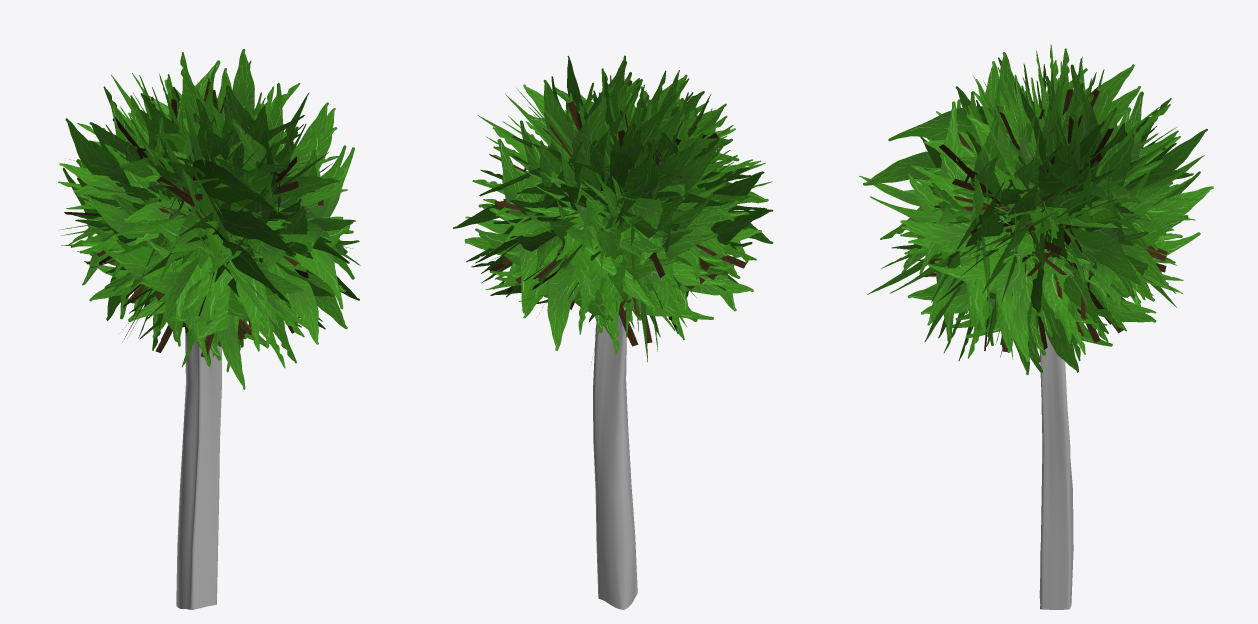
File: Tree.fbx
The picture shows the model from 3 angles, left to right: view 1: azimuth 30°, elevation 25°; view 2: azimuth 150°, elevation 25°; view 3: azimuth 270°, elevation 25°; orthographic projection. The views are drawn at different scales.
Visible parts, largest first — view 1: Tree_LOD0; view 2: Tree_LOD0; view 3: Tree_LOD0.
Boxes of the visible parts, bbox=[...] form: Tree_LOD0: bbox=[58, 49, 360, 609]; Tree_LOD0: bbox=[453, 55, 773, 609]; Tree_LOD0: bbox=[859, 44, 1213, 609].
Size of what is drawn, in the model's own units: 1246 by 2129 by 1380.
